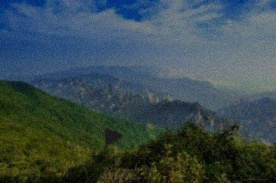shahed: (103, 127, 122, 148)
